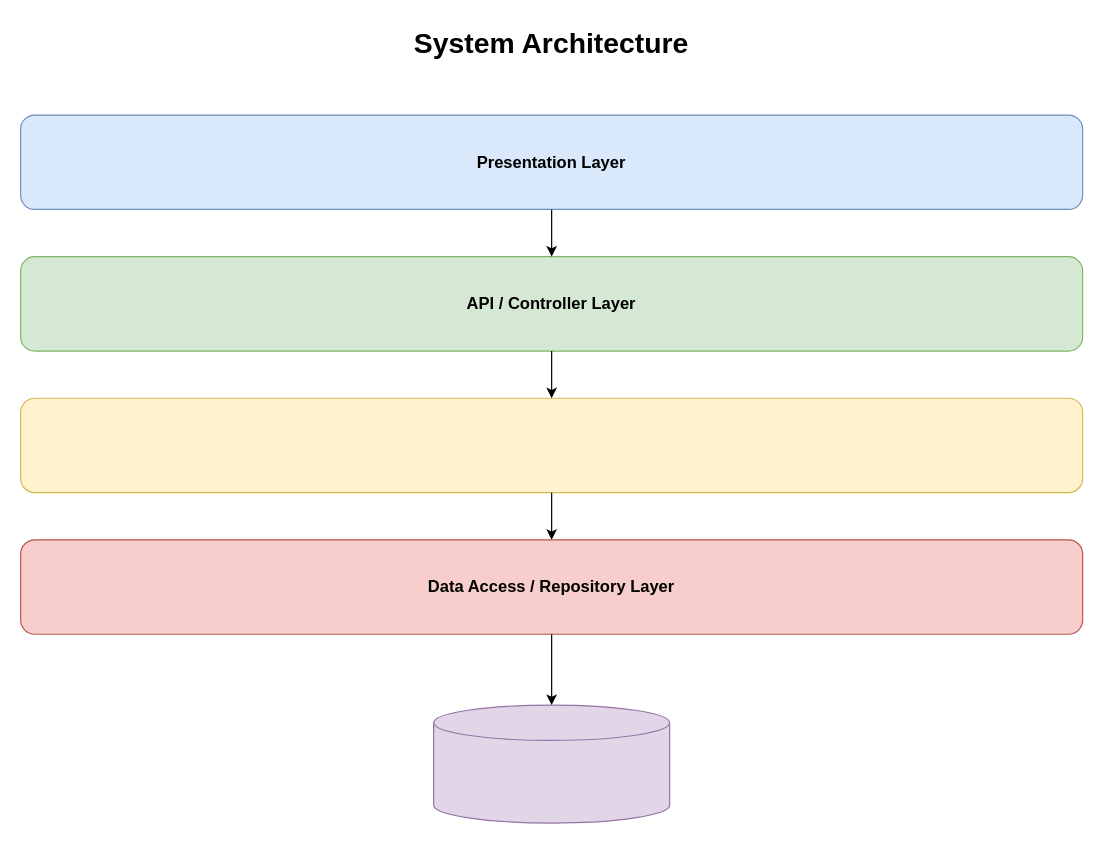
Image size: 1103x844. Some labels were removed from this diagram. The centre of each missing label's shape, as x and y in pixels:
"Business Logic / Service Layer" belongs at point (551, 445).
"Database" belongs at point (551, 763).
